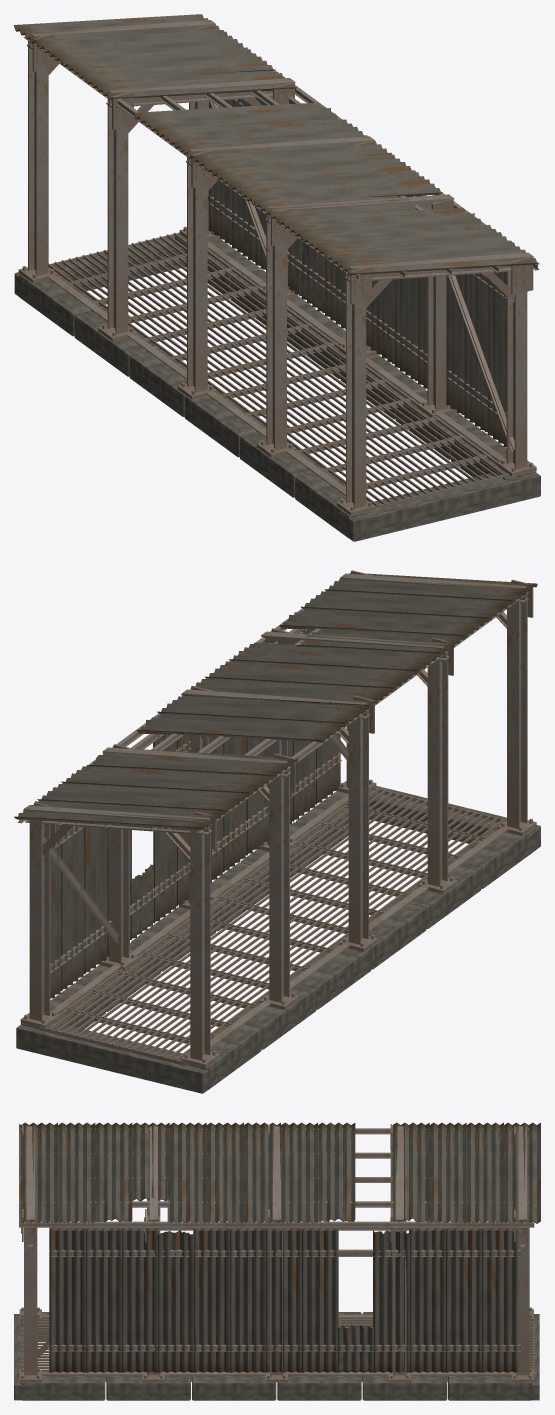
The model's file is CablewayStationShell.glb.
3 renders of one model, top to bottom at view 1: azimuth 30°, elevation 25°; view 2: azimuth 150°, elevation 25°; view 3: azimuth 270°, elevation 25°, orthographic. The views are drawn at different scales.
Visible parts, largest first — view 1: StructuralSteel, SingleSlopeRoof, ConcretePlinth, WalkwayGrating, CorrugatedWalls, PlatesAndFasteners; view 2: StructuralSteel, SingleSlopeRoof, ConcretePlinth, WalkwayGrating, CorrugatedWalls, PlatesAndFasteners; view 3: CorrugatedWalls, SingleSlopeRoof, StructuralSteel, ConcretePlinth, PlatesAndFasteners, WalkwayGrating.
Boxes of the visible parts, x1,y1,x2,y2 form: StructuralSteel: [23, 20, 539, 508]; SingleSlopeRoof: [14, 14, 538, 275]; ConcretePlinth: [14, 235, 540, 541]; WalkwayGrating: [48, 232, 509, 508]; CorrugatedWalls: [208, 98, 506, 447]; PlatesAndFasteners: [18, 24, 536, 515]; StructuralSteel: [17, 573, 528, 1060]; SingleSlopeRoof: [14, 572, 537, 830]; ConcretePlinth: [16, 786, 540, 1093]; WalkwayGrating: [39, 787, 506, 1065]; CorrugatedWalls: [50, 629, 340, 998]; PlatesAndFasteners: [20, 570, 536, 1067]; CorrugatedWalls: [49, 1228, 518, 1372]; SingleSlopeRoof: [19, 1122, 540, 1223]; StructuralSteel: [19, 1126, 534, 1381]; ConcretePlinth: [14, 1312, 539, 1400]; PlatesAndFasteners: [19, 1125, 533, 1382]; WalkwayGrating: [23, 1318, 534, 1376].
Bounding box in the file's own units: 3.66 × 4.93 × 11.35.
Materials: 3 (3 with a texture image).
